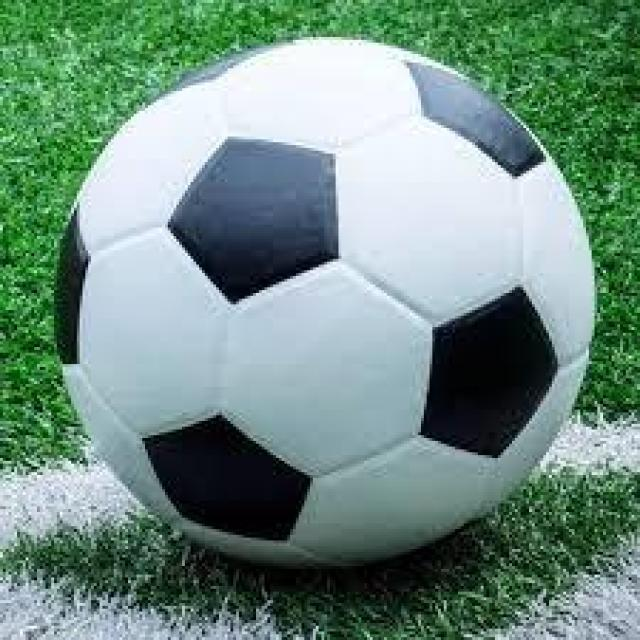Soccer Ball: (60, 40, 594, 569)
